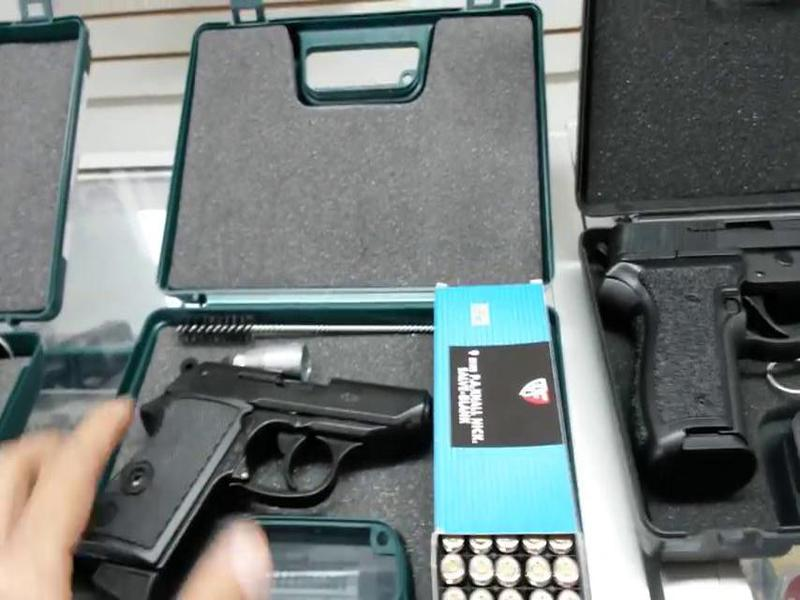Pistola: (78, 353, 463, 589)
